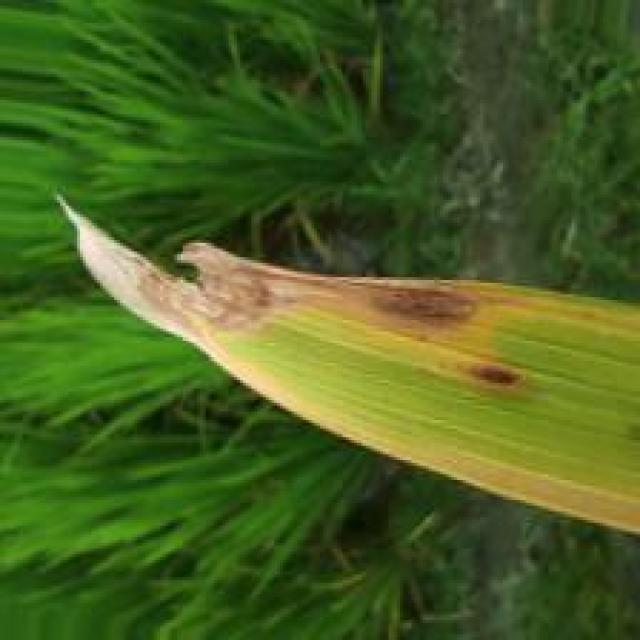Narrow_Brown_Leaf_Spot: (52, 193, 640, 400)
